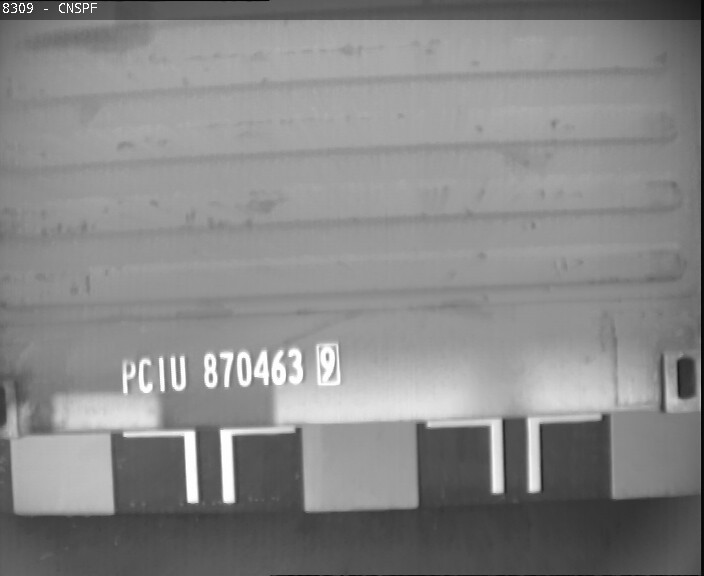groundmarker_1: (425, 408, 604, 494), (125, 419, 295, 505)
